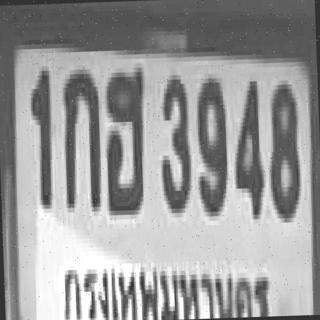A01: (61, 64, 100, 208)
A44: (102, 63, 147, 211)
N01: (28, 66, 52, 204)
N03: (156, 70, 190, 209)
N04: (230, 77, 263, 215)
N08: (265, 80, 299, 214)
N09: (194, 74, 227, 212)
P04: (57, 248, 272, 320)
